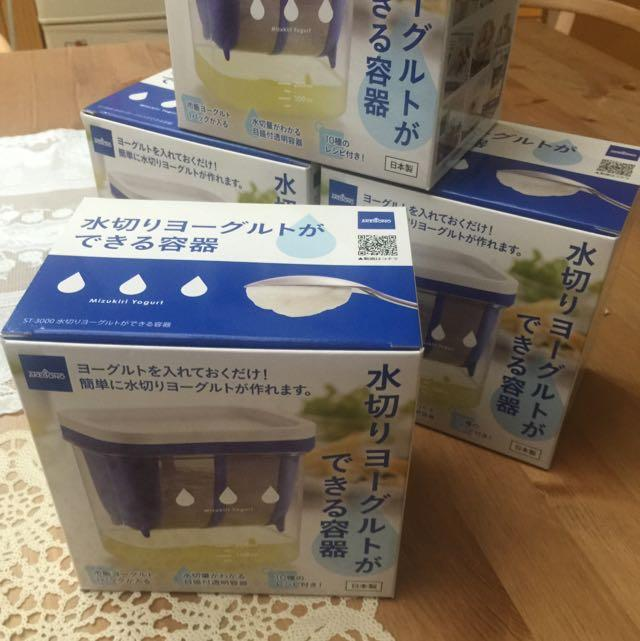cardboard: (1, 198, 419, 595), (382, 123, 635, 467), (83, 0, 516, 195)
plastic: (1, 198, 419, 595)
